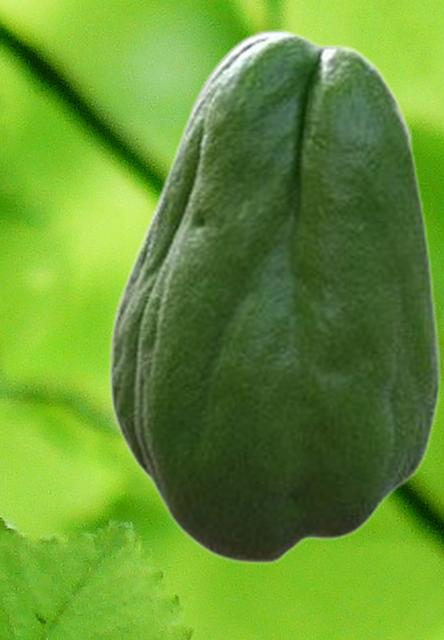sayote: (108, 29, 441, 564)
